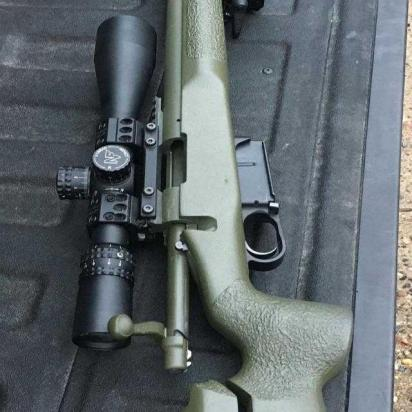Gun: (47, 0, 362, 412)
